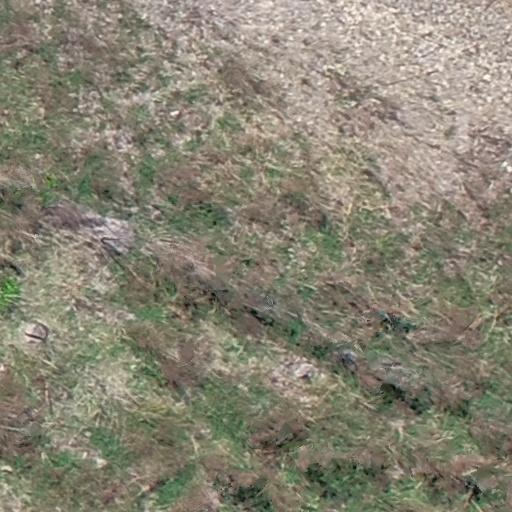stone: (25, 320, 48, 343)
